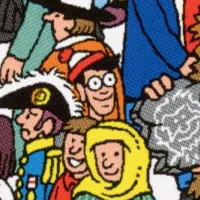waldo: (81, 52, 118, 115)
